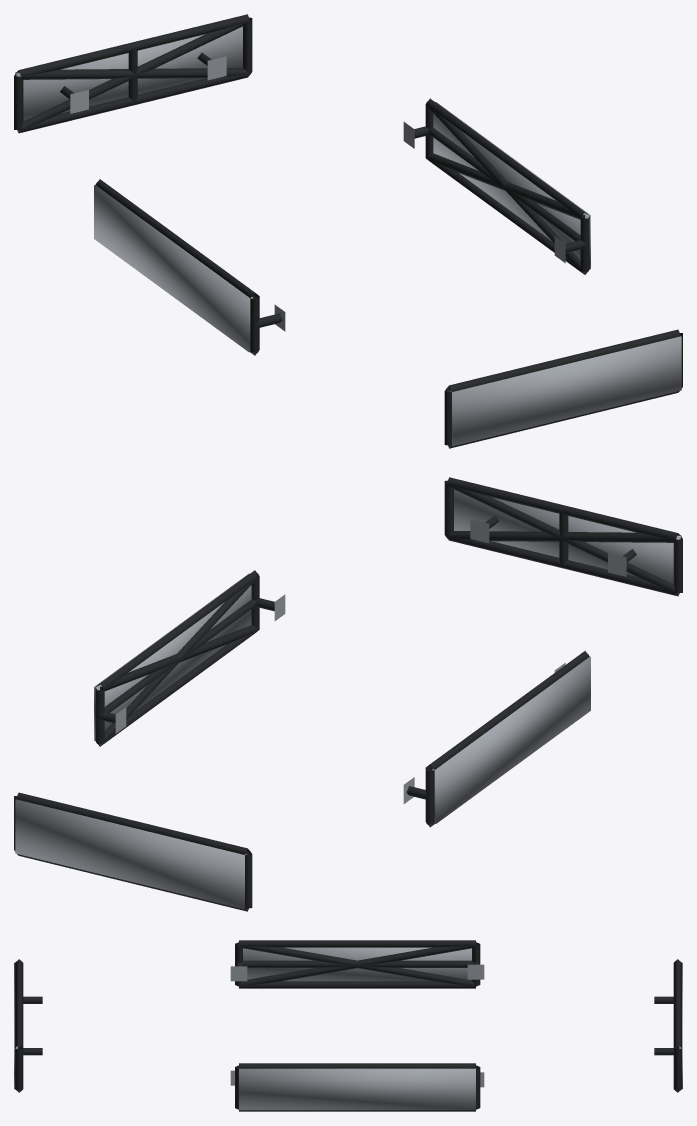
Rendered from hayase_casulo_protecao.glb.
3 views of the same model, one above another, from view 1: azimuth 30°, elevation 25°; view 2: azimuth 150°, elevation 25°; view 3: azimuth 270°, elevation 25° (orthographic). The views are drawn at different scales.
Visible parts, largest first — view 1: Protection_front_Level3_Details, Protection_left_Level3_Details, Protection_rear_Level1_Details, Protection_rear_Level3_Details, Protection_right_Level1_Details, Protection_rear_Level2_Details, Protection_right_Level2_Details, Protection_right_Level3_Details, Protection_front_Level1_Details, Protection_left_Level1_Details; view 2: Protection_rear_Level3_Details, Protection_left_Level3_Details, Protection_front_Level1_Details, Protection_front_Level3_Details, Protection_right_Level1_Details, Protection_front_Level2_Details, Protection_right_Level2_Details, Protection_right_Level3_Details, Protection_rear_Level1_Details, Protection_left_Level1_Details; view 3: Protection_right_Level3_Details, Protection_left_Level2_Details, Protection_left_Level1_Details, Protection_left_Level3_Details, Protection_right_Level1_Details, Protection_rear_Level1_Details, Protection_front_Level1_Details.
Boxes of the visible parts, <box> form: Protection_front_Level3_Details: <box>450,336,681,446</box>; Protection_left_Level3_Details: <box>94,185,253,352</box>; Protection_rear_Level1_Details: <box>14,14,252,133</box>; Protection_rear_Level3_Details: <box>15,26,242,121</box>; Protection_right_Level1_Details: <box>403,98,589,274</box>; Protection_rear_Level2_Details: <box>16,21,249,132</box>; Protection_right_Level2_Details: <box>426,105,589,274</box>; Protection_right_Level3_Details: <box>433,102,590,269</box>; Protection_front_Level1_Details: <box>444,329,682,448</box>; Protection_left_Level1_Details: <box>95,179,285,355</box>; Protection_rear_Level3_Details: <box>15,799,246,909</box>; Protection_left_Level3_Details: <box>431,656,590,823</box>; Protection_front_Level1_Details: <box>444,477,682,596</box>; Protection_front_Level3_Details: <box>454,489,681,584</box>; Protection_right_Level1_Details: <box>95,570,285,746</box>; Protection_front_Level2_Details: <box>447,484,680,595</box>; Protection_right_Level2_Details: <box>96,577,259,746</box>; Protection_right_Level3_Details: <box>94,573,251,740</box>; Protection_rear_Level1_Details: <box>14,792,252,911</box>; Protection_left_Level1_Details: <box>403,651,589,827</box>; Protection_right_Level3_Details: <box>239,1068,475,1110</box>; Protection_left_Level2_Details: <box>238,942,476,986</box>; Protection_left_Level1_Details: <box>230,940,484,988</box>; Protection_left_Level3_Details: <box>243,947,471,981</box>; Protection_right_Level1_Details: <box>230,1063,484,1111</box>; Protection_rear_Level1_Details: <box>654,959,681,1092</box>; Protection_front_Level1_Details: <box>15,959,42,1092</box>.
Size of the model in its own units: 2 by 0.354 by 4.43.
Materials: 1 (1 with a texture image).
